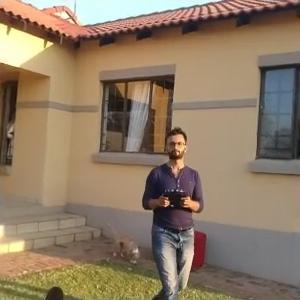follow: (135, 123, 205, 298)
null: (103, 216, 142, 266)
